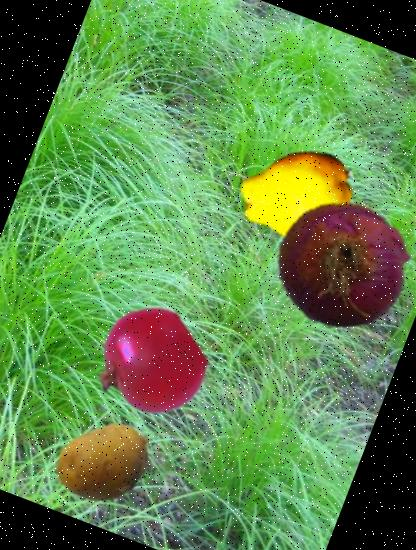Onion: (257, 178, 416, 352)
Potato: (42, 399, 166, 523)
Quince: (224, 123, 372, 272)
Redcurrant: (80, 295, 218, 433)
